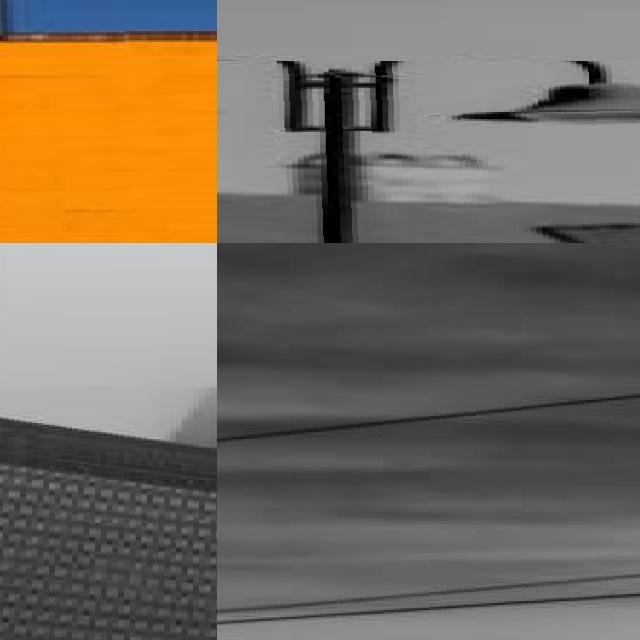street light: (217, 61, 640, 243), (0, 0, 217, 243), (0, 243, 217, 387)
